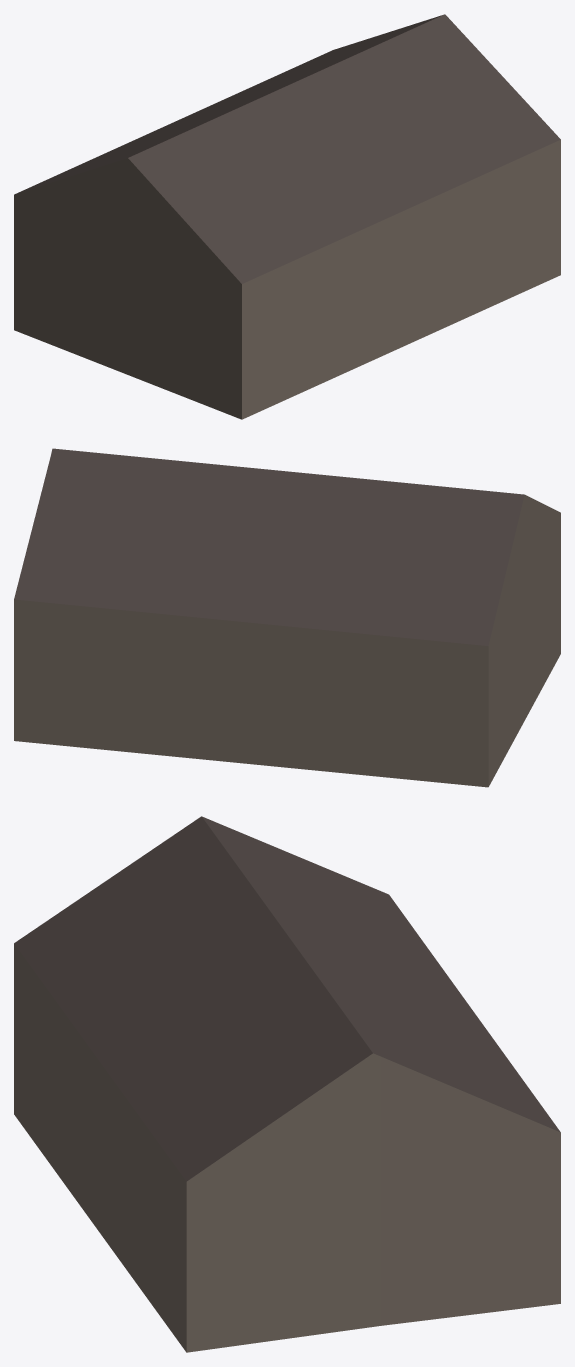
3 views of the same model, one above another, from view 1: azimuth 30°, elevation 25°; view 2: azimuth 150°, elevation 25°; view 3: azimuth 270°, elevation 25° (orthographic). The views are drawn at different scales.
Parts seen in each view (by area): view 1: HP-w1198840833; view 2: HP-w1198840833; view 3: HP-w1198840833.
Part boxes in pixels (x1,y1,x2,y2): HP-w1198840833: (14, 14, 560, 419); HP-w1198840833: (14, 448, 560, 787); HP-w1198840833: (14, 816, 560, 1352).
Bounding box in the file's own units: 21.61 × 9.6 × 17.4.
